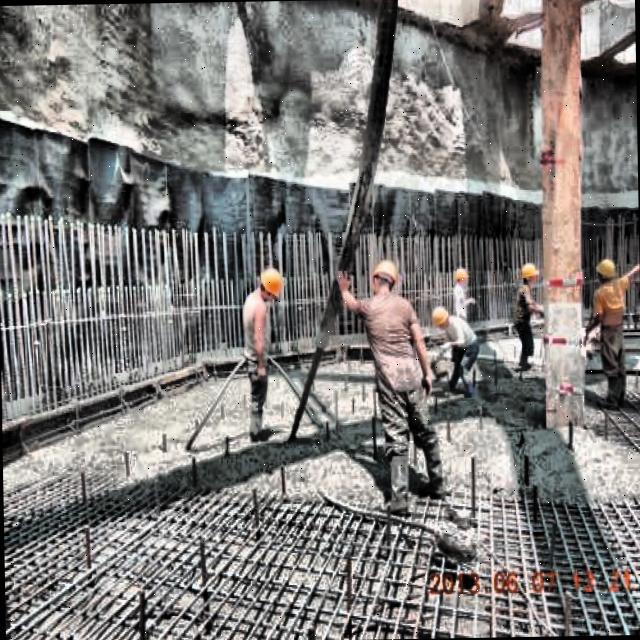helmet: (252, 263, 286, 306), (369, 258, 402, 298), (591, 254, 620, 286), (518, 258, 541, 290), (430, 302, 454, 332), (452, 266, 471, 290)
